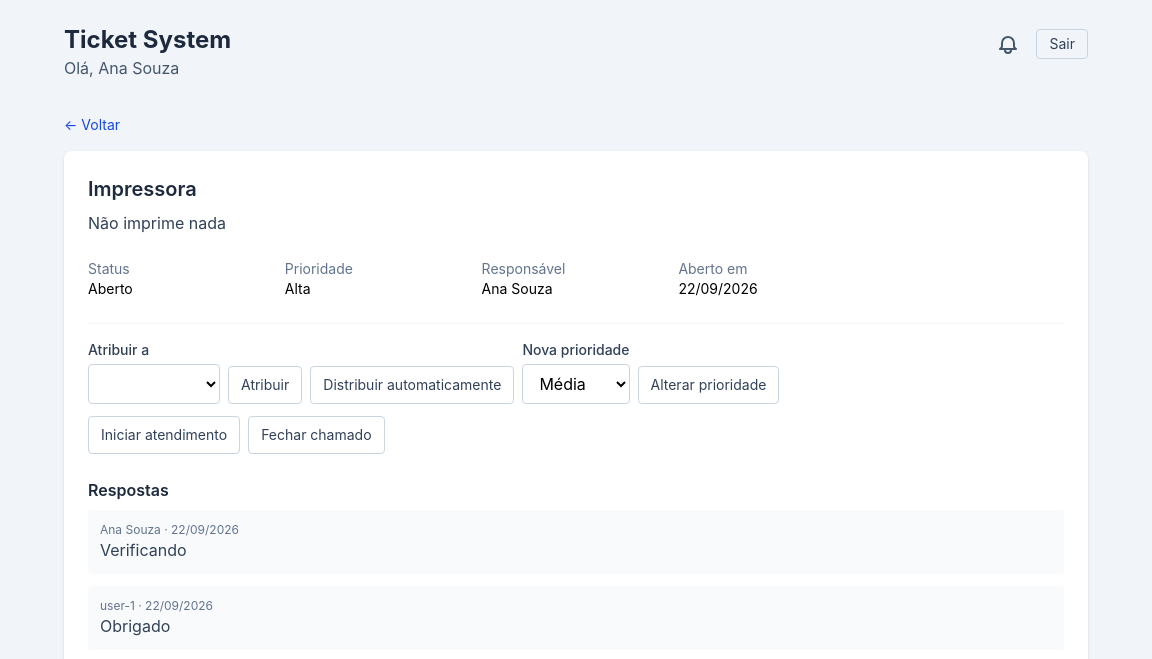
Test: TicketDetailView › when something goes wrong › explains why an action was refused and keeps the ticket on screen
Expected: the heading "Impressora" is shown, [88,177,197,201]
Step 1. Click the button "Iniciar atendimento" → (164, 435), box [88,416,240,454]
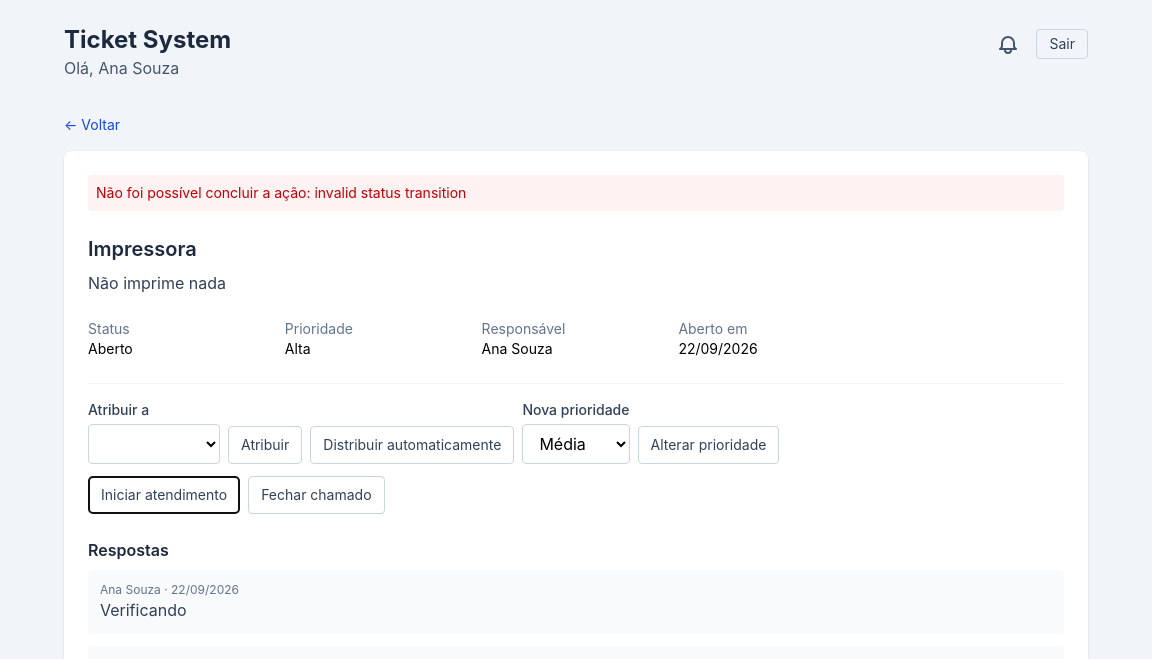
Expected: the heading "Impressora" is shown, [88,237,197,261]
Expected: the message reads "Não foi possível concluir a ação: invalid status transition", [96,184,466,201]
